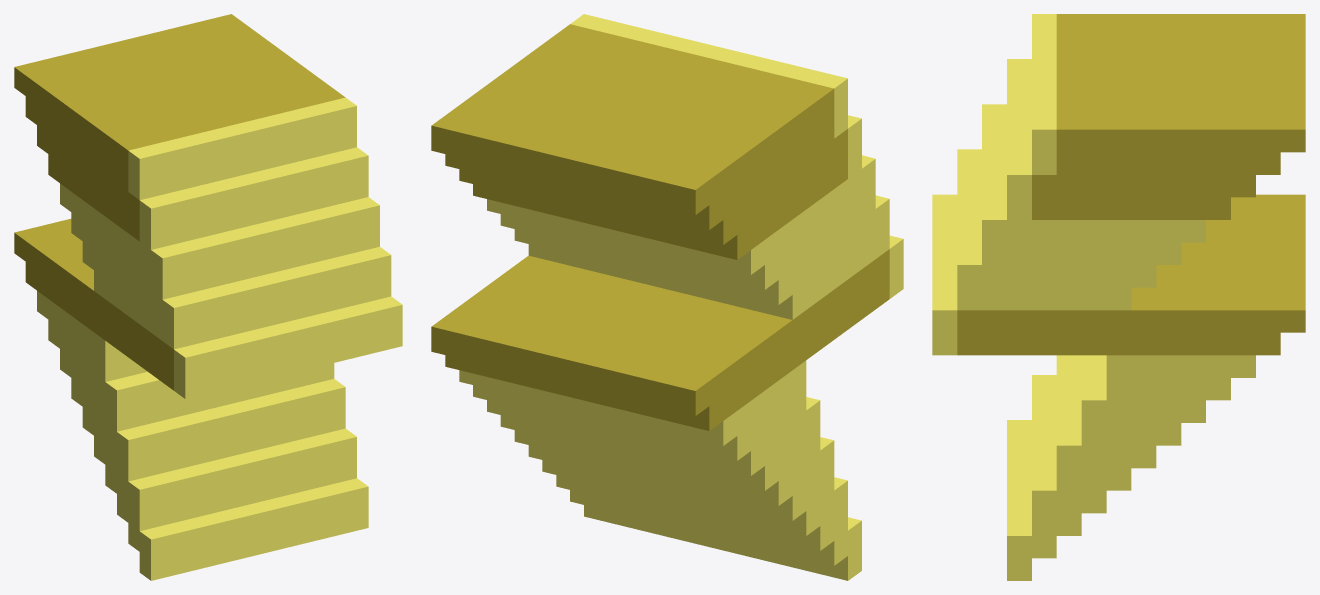
Rendered from Enegy.obj.
3 views of the same model, side by side, from view 1: azimuth 30°, elevation 25°; view 2: azimuth 150°, elevation 25°; view 3: azimuth 270°, elevation 25° (orthographic). The views are drawn at different scales.
Bounding box in the file's own units: 11 × 20 × 15.
1 material, 1 textured.
